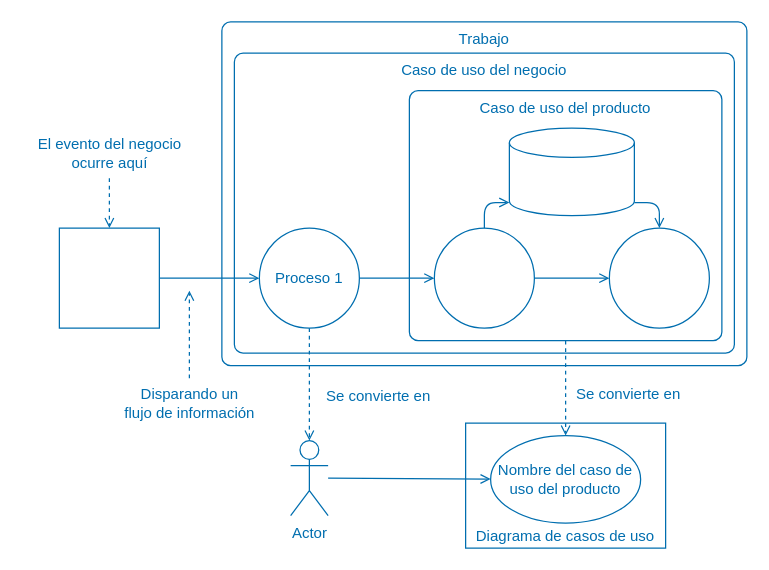
This 769x570 diagram has some shape labels left out. The shapes that lost their labels are listed below. From the top down, each one's centre as x and y in pixels, then its label:
At point (571, 171): "Datos almacenados".
At point (108, 277): "Sistema adyacente".
At point (483, 277): "Proceso 2".
At point (658, 277): "Proceso 3".
